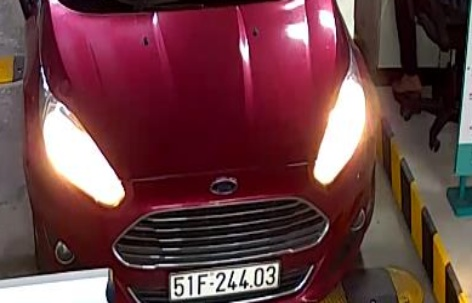plate: (171, 263, 281, 299)
